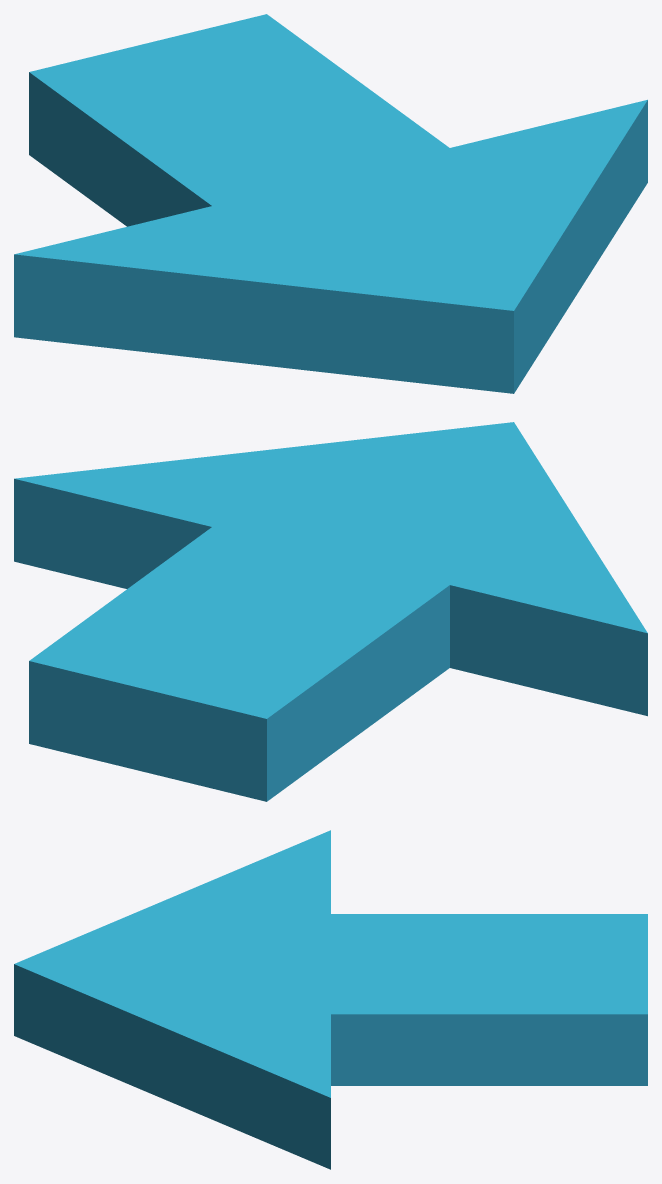
File: Light Blue Directional Arrow.glb
3 views of the same model, one above another, from view 1: azimuth 30°, elevation 25°; view 2: azimuth 150°, elevation 25°; view 3: azimuth 270°, elevation 25° (orthographic). The views are drawn at different scales.
Visible parts, largest first — view 1: cube; view 2: cube; view 3: cube.
Part boxes in pixels (x1,y1,x2,y2): cube: [14, 14, 647, 393]; cube: [14, 422, 647, 801]; cube: [14, 830, 647, 1169].
Bounding box in the file's own units: 1 × 0.125 × 1.
Materials: 1 (1 with a texture image).
